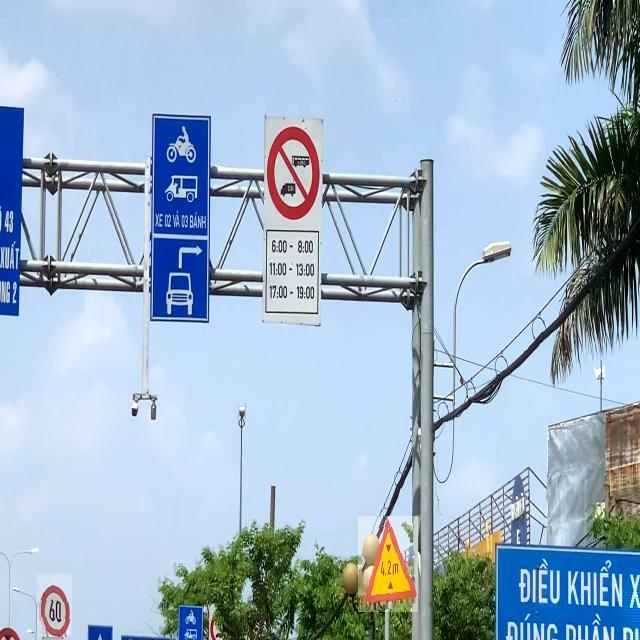bien_cam: (358, 516, 418, 612), (37, 574, 72, 637)
